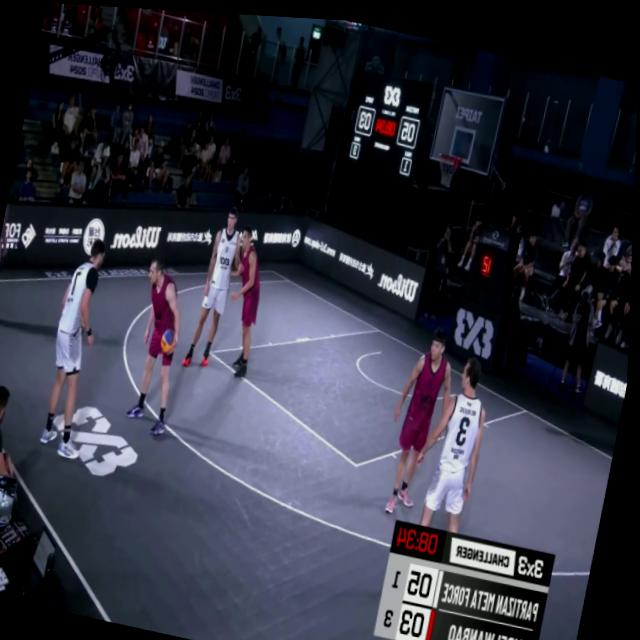ball: (161, 323, 182, 359)
hoop: (433, 141, 463, 188)
player: (404, 338, 502, 556), (36, 237, 123, 460), (381, 318, 465, 517), (121, 253, 195, 441), (186, 202, 250, 373), (216, 223, 276, 379)
